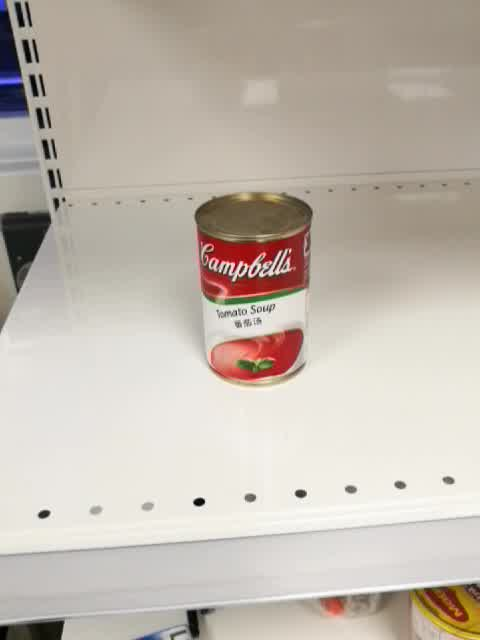tomatosoup: (193, 191, 314, 388)
